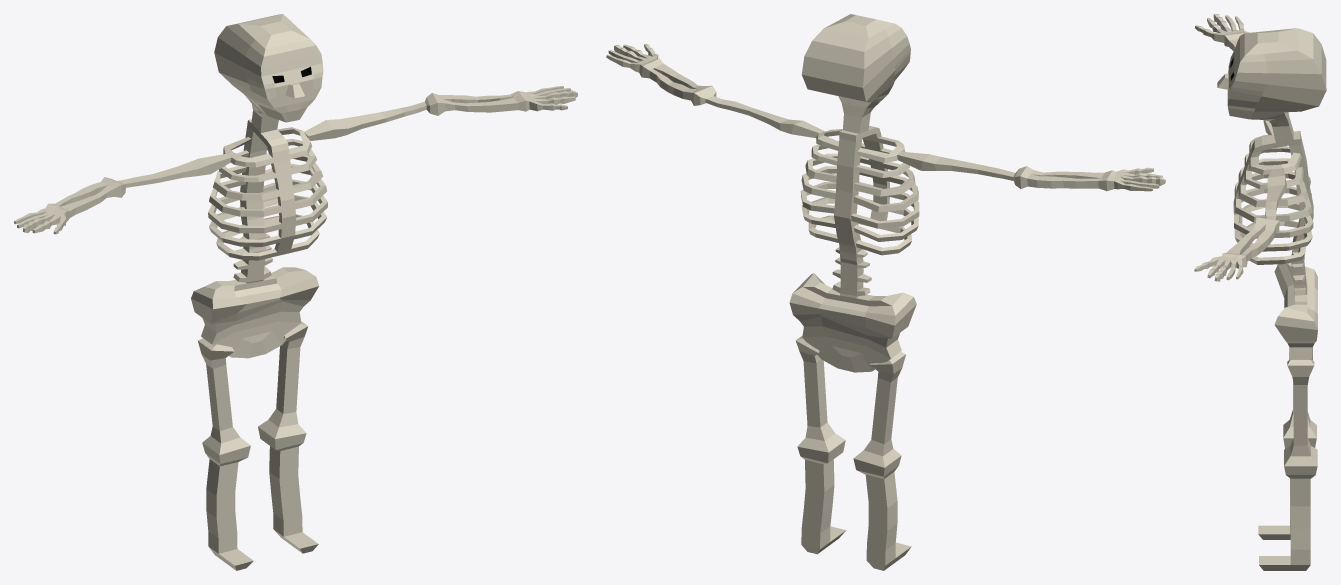
The model's file is skelly_2.fbx.
3 views of the same model, side by side, from view 1: azimuth 30°, elevation 25°; view 2: azimuth 150°, elevation 25°; view 3: azimuth 270°, elevation 25° (orthographic). The views are drawn at different scales.
Visible parts, largest first — view 1: head.001; view 2: head.001; view 3: head.001.
Boxes of the visible parts, x1,y1,x2,y2 form: head.001: [14, 14, 577, 570]; head.001: [606, 14, 1165, 570]; head.001: [1194, 14, 1326, 570].
Bounding box in the file's own units: 194 × 178 × 41.05.
